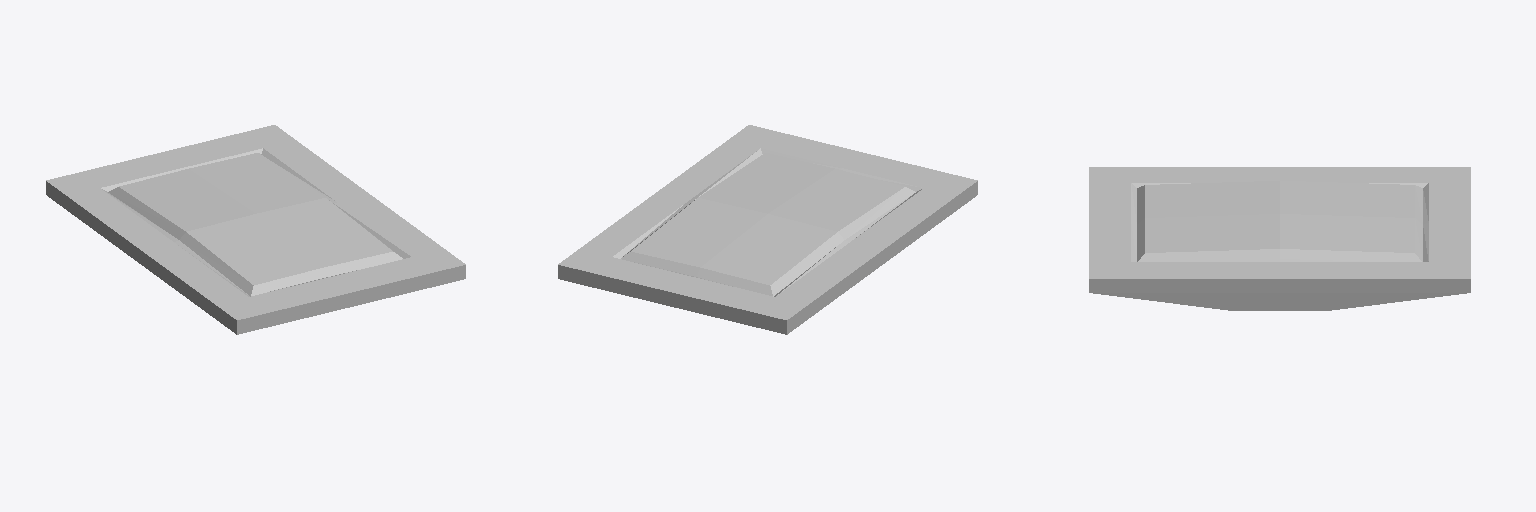
File: floodLight_Low.obj
3 views of the same model, side by side, from view 1: azimuth 30°, elevation 25°; view 2: azimuth 150°, elevation 25°; view 3: azimuth 270°, elevation 25° (orthographic).
Visible parts, largest first — view 1: Low; view 2: Low; view 3: Low.
Boxes of the visible parts, box(x1,y1,x2,y2) form: Low: box(46, 125, 465, 334); Low: box(558, 125, 977, 334); Low: box(1089, 167, 1470, 310).
Bounding box in the file's own units: 2 × 0.7031 × 2.89.